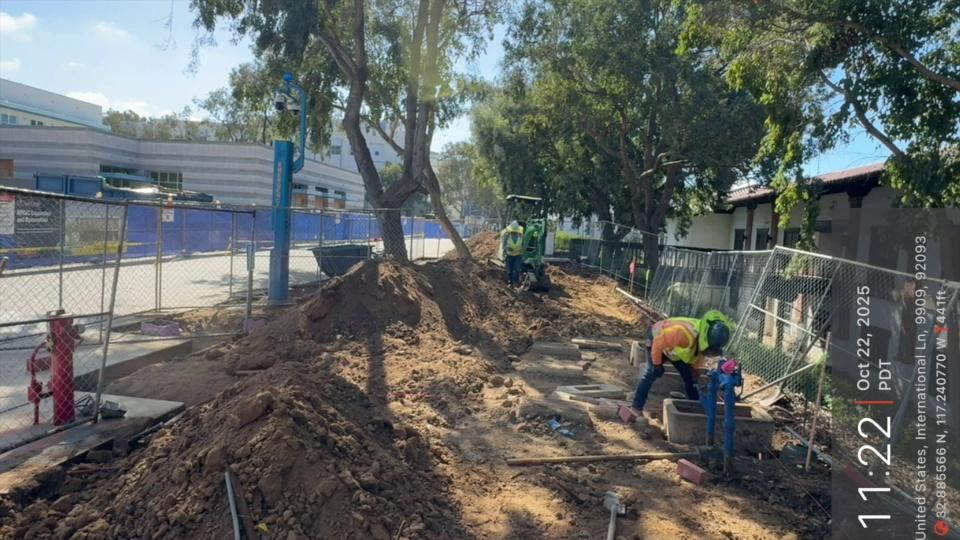Exacavator: (497, 192, 553, 293)
